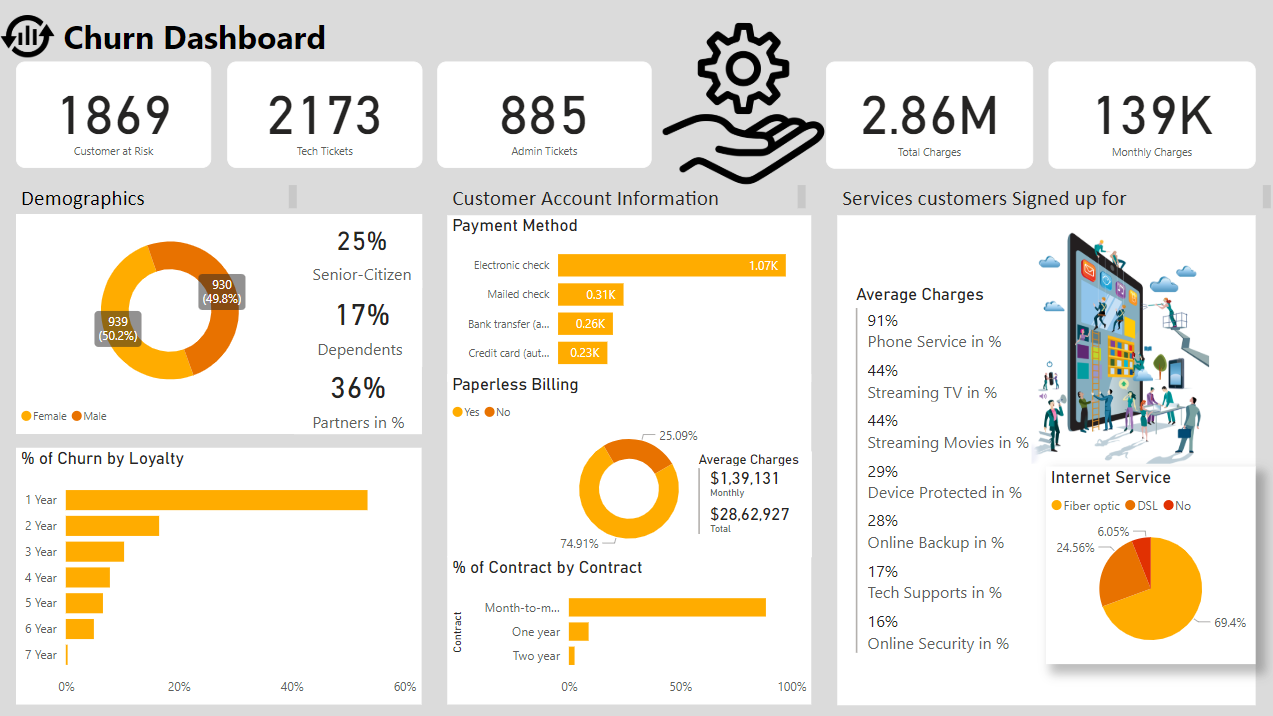

What the dashboard file says about the page in this screenshot:
{"tool":"powerbi","page":{"name":"Churn","canvas":[1280,720],"ordinal":1},"visuals":[{"type":"card","fields":{"Values":["CountNonNull(01 Churn-Dataset.customerID)"]},"box":[20.6,63.1,195.3,106.7],"z":0},{"type":"shape","box":[841.4,215.7,418.6,490],"z":1000},{"type":"card","fields":{"Values":["Sum(01 Churn-Dataset.numTechTickets)"]},"box":[231.7,63.1,195.3,106.7],"z":2000},{"type":"card","fields":{"Values":["Sum(01 Churn-Dataset.TotalCharges)"]},"box":[830.2,63.1,207.2,107],"z":3000},{"type":"card","fields":{"Values":["Sum(01 Churn-Dataset.numAdminTickets)"]},"box":[441.3,63.1,214.3,106.7],"z":4000},{"type":"card","fields":{"Values":["Sum(01 Churn-Dataset.MonthlyCharges)"]},"box":[1052.5,63.1,207.2,107],"z":5000},{"type":"donutChart","title":"Demographics","fields":{"Category":["01 Churn-Dataset.gender"],"Y":["CountNonNull(01 Churn-Dataset.gender)"]},"box":[20,215,308.3,220],"z":6000},{"type":"clusteredBarChart","title":"% of Churn by Loyalty","fields":{"Y":["CountNonNull(01 Churn-Dataset.Churn)"],"Category":["01 Churn-Dataset.LOYALTY"]},"box":[20,448.6,405.7,257.1],"z":7000},{"type":"clusteredBarChart","title":"Payment Method","fields":{"Category":["01 Churn-Dataset.PaymentMethod"],"Y":["CountNonNull(01 Churn-Dataset.PaymentMethod)"]},"box":[451.2,216,364.3,166.5],"z":8000},{"type":"donutChart","title":"Paperless Billing","fields":{"Category":["01 Churn-Dataset.PaperlessBilling"],"Y":["CountNonNull(01 Churn-Dataset.PaperlessBilling)"]},"box":[451.5,374.6,363.8,183.1],"z":9000},{"type":"clusteredBarChart","fields":{"Category":["01 Churn-Dataset.Contract"],"Y":["CountNonNull(01 Churn-Dataset.Contract)"]},"box":[451.2,557.4,364.3,148.4],"z":10000},{"type":"multiRowCard","title":"Average Charges","fields":{"Values":["Sum(01 Churn-Dataset.MonthlyCharges)","Sum(01 Churn-Dataset.TotalCharges)"]},"box":[696.9,452.3,118.5,105.4],"z":11000},{"type":"multiRowCard","title":"Average Charges","fields":{"Values":["01 Churn-Dataset.Phone Service in %","01 Churn-Dataset.Streaming TV in %","01 Churn-Dataset.Streaming Movies in %","01 Churn-Dataset.Device Protected in %","01 Churn-Dataset.ONLINE BACKUP","01 Churn-Dataset.Tech Supports in %","01 Churn-Dataset.ONLINE SECURITY IN %"]},"box":[854.9,285.4,197.6,387],"z":12000},{"type":"pieChart","title":"Internet Service ","fields":{"Category":["01 Churn-Dataset.InternetService"],"Y":["CountNonNull(01 Churn-Dataset.InternetService)"]},"box":[1049.7,467.9,209.9,197.6],"z":13000},{"type":"card","fields":{"Values":["01 Churn-Dataset.Senior Citizen in %"]},"box":[306.7,215,120,73.3],"z":14000},{"type":"card","fields":{"Values":["01 Churn-Dataset.Partners in %"]},"box":[299.1,360,127.3,75.5],"z":15000},{"type":"card","fields":{"Values":["01 Churn-Dataset.Dependents Count in %"]},"box":[306.7,281.7,120,86.7],"z":16000},{"type":"textbox","box":[63.1,11,484.4,63.1],"z":17000},{"type":"image","box":[0,0,63.1,74.1],"z":18000},{"type":"textbox","box":[20.6,181.1,285.4,34.3],"z":19000},{"type":"textbox","box":[451.5,181.1,363.6,34.3],"z":20000},{"type":"image","box":[987.5,228.8,273.8,241.2],"z":21000},{"type":"image","box":[655,11.2,186.2,187.5],"z":22000},{"type":"textbox","box":[841.4,181.4,438.6,34.3],"z":23000}]}

Visuals, with their boxes in screenshot pixels (x1, y1, x2, y2), scaled from the page's 1280x720 canvas onto the 1273x716 screenshot:
card - CountNonNull(01 Churn-Dataset.customerID): locate(20, 63, 215, 169)
shape: locate(837, 215, 1253, 702)
card - Sum(01 Churn-Dataset.numTechTickets): locate(230, 63, 425, 169)
card - Sum(01 Churn-Dataset.TotalCharges): locate(826, 63, 1032, 169)
card - Sum(01 Churn-Dataset.numAdminTickets): locate(439, 63, 652, 169)
card - Sum(01 Churn-Dataset.MonthlyCharges): locate(1047, 63, 1253, 169)
"Demographics" donutChart: locate(20, 214, 327, 433)
"% of Churn by Loyalty" clusteredBarChart: locate(20, 446, 423, 702)
"Payment Method" clusteredBarChart: locate(449, 215, 811, 380)
"Paperless Billing" donutChart: locate(449, 373, 811, 555)
clusteredBarChart - 01 Churn-Dataset.Contract x CountNonNull(01 Churn-Dataset.Contract): locate(449, 554, 811, 702)
"Average Charges" multiRowCard: locate(693, 450, 811, 555)
"Average Charges" multiRowCard: locate(850, 284, 1047, 669)
"Internet Service " pieChart: locate(1044, 465, 1253, 662)
card - 01 Churn-Dataset.Senior Citizen in %: locate(305, 214, 424, 287)
card - 01 Churn-Dataset.Partners in %: locate(297, 358, 424, 433)
card - 01 Churn-Dataset.Dependents Count in %: locate(305, 280, 424, 366)
textbox: locate(63, 11, 545, 74)
image: locate(0, 0, 63, 74)
textbox: locate(20, 180, 304, 214)
textbox: locate(449, 180, 811, 214)
image: locate(982, 228, 1254, 467)
image: locate(651, 11, 837, 198)
textbox: locate(837, 180, 1272, 215)
